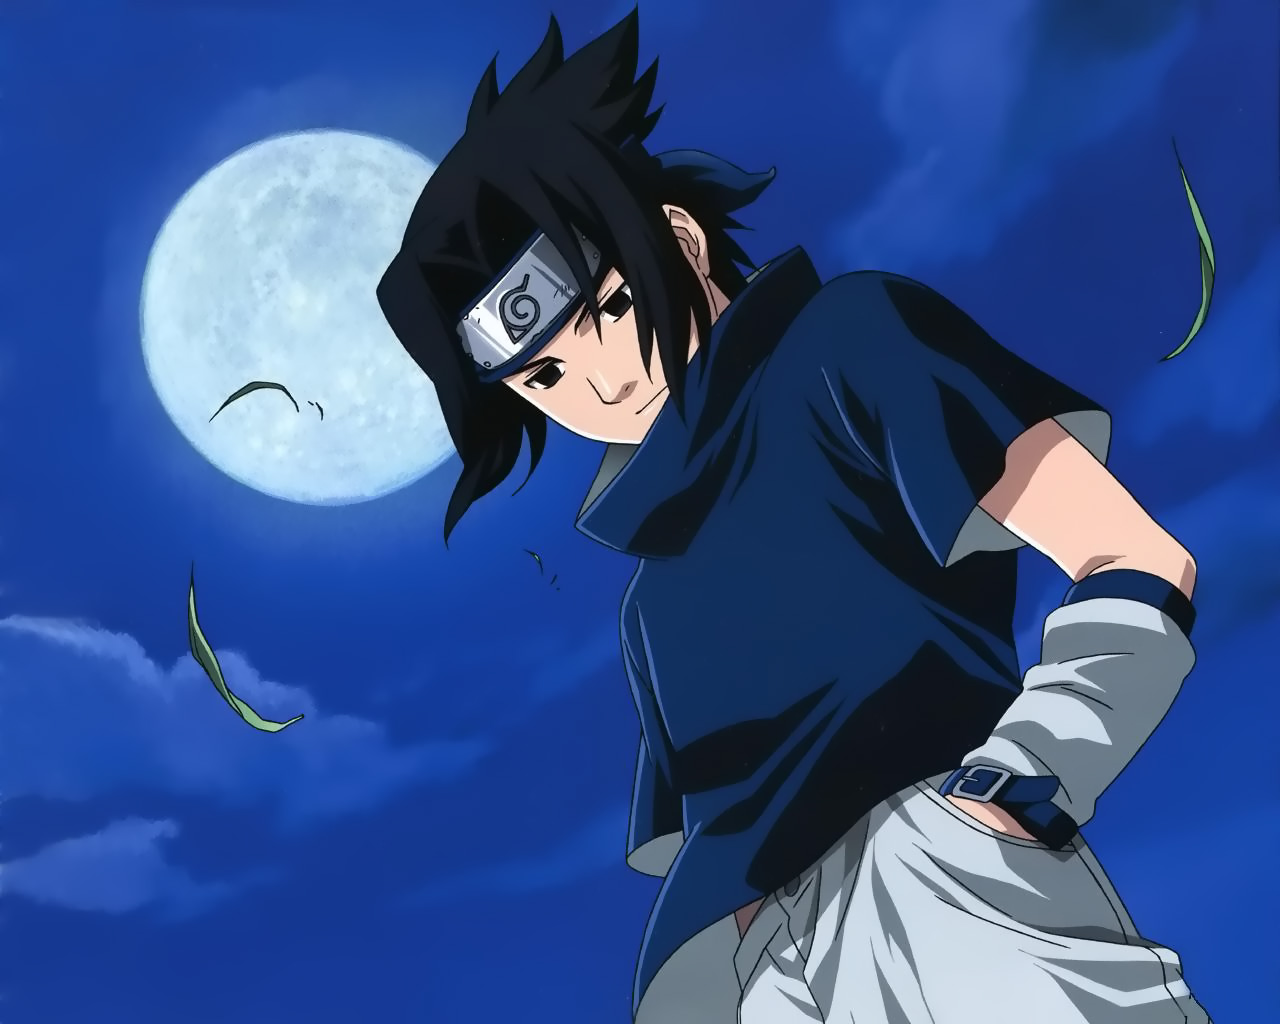sasuke: (455, 192, 738, 449)
